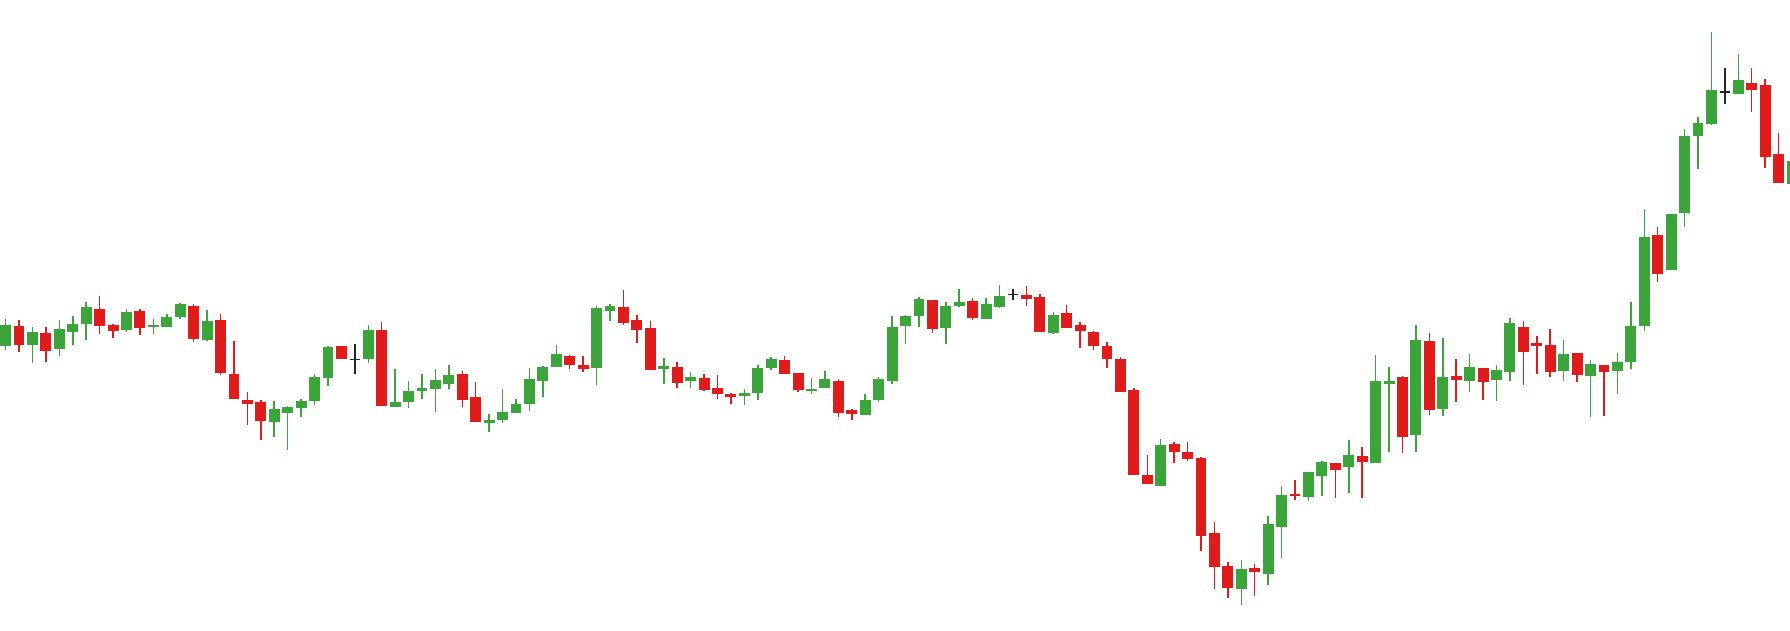buy: (1475, 343, 1610, 422)
